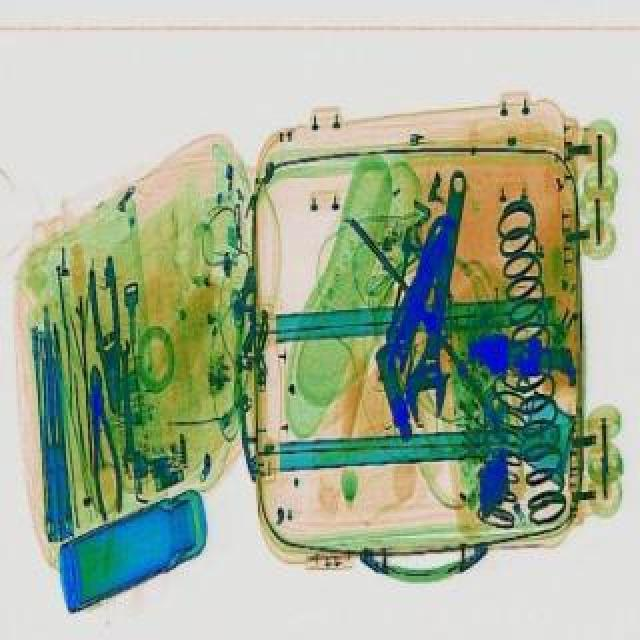scissors: (402, 166, 478, 422), (114, 336, 136, 466)
wrench: (78, 360, 126, 516), (84, 254, 128, 410)
